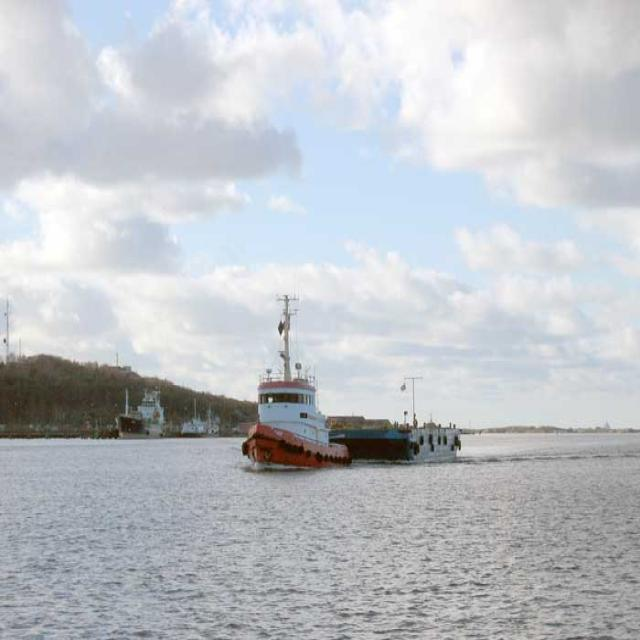passenger ship: (239, 287, 349, 470), (112, 374, 169, 437)
